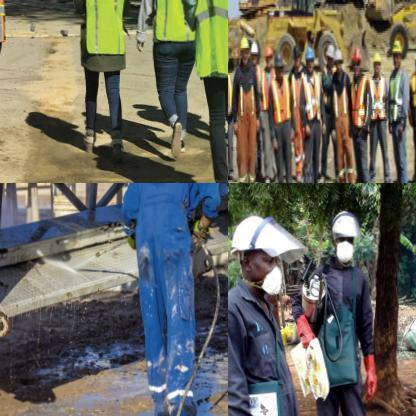vest: (135, 183, 219, 410), (191, 0, 227, 87), (82, 0, 128, 56), (150, 0, 197, 45), (300, 73, 326, 123), (268, 77, 292, 129), (368, 72, 390, 124), (386, 74, 408, 122), (350, 74, 368, 130), (408, 71, 415, 124), (228, 72, 235, 119)
